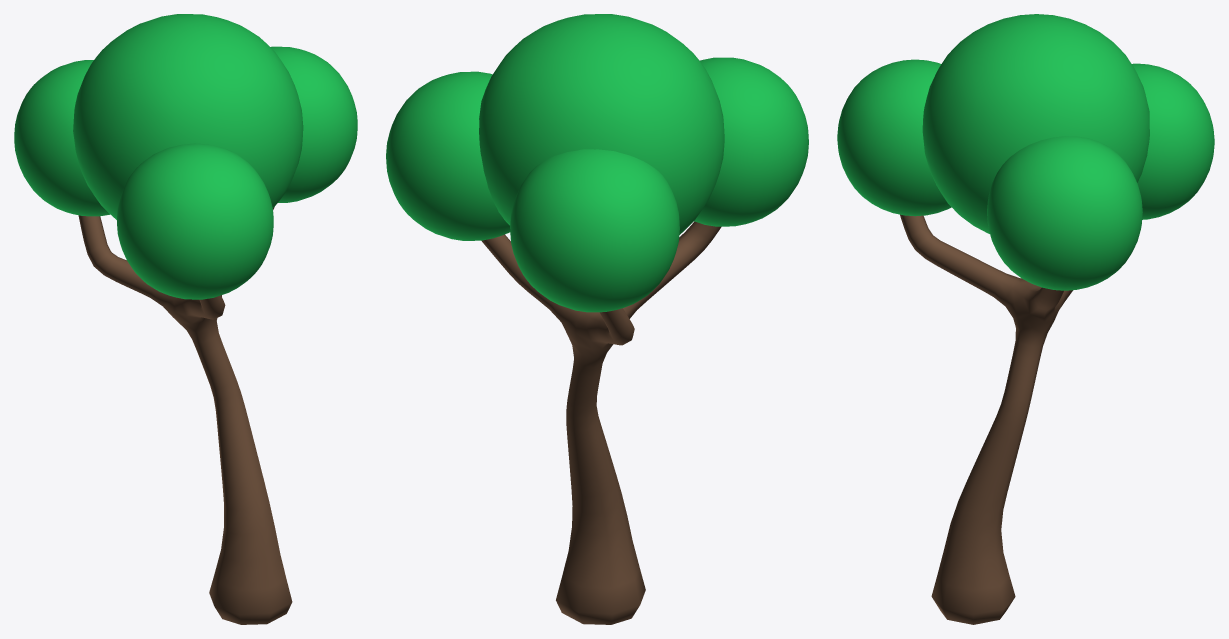
Rendered from treesmall.fbx.
3 views of the same model, side by side, from view 1: azimuth 30°, elevation 25°; view 2: azimuth 150°, elevation 25°; view 3: azimuth 270°, elevation 25° (orthographic). The views are drawn at different scales.
Parts seen in each view (by area): view 1: Cube.009; view 2: Cube.009; view 3: Cube.009.
Boxes of the visible parts, <box> form: Cube.009: <box>14,14,357,624</box>; Cube.009: <box>386,14,808,624</box>; Cube.009: <box>837,14,1214,624</box>.
Bounding box in the file's own units: 651 × 1219 × 725.
